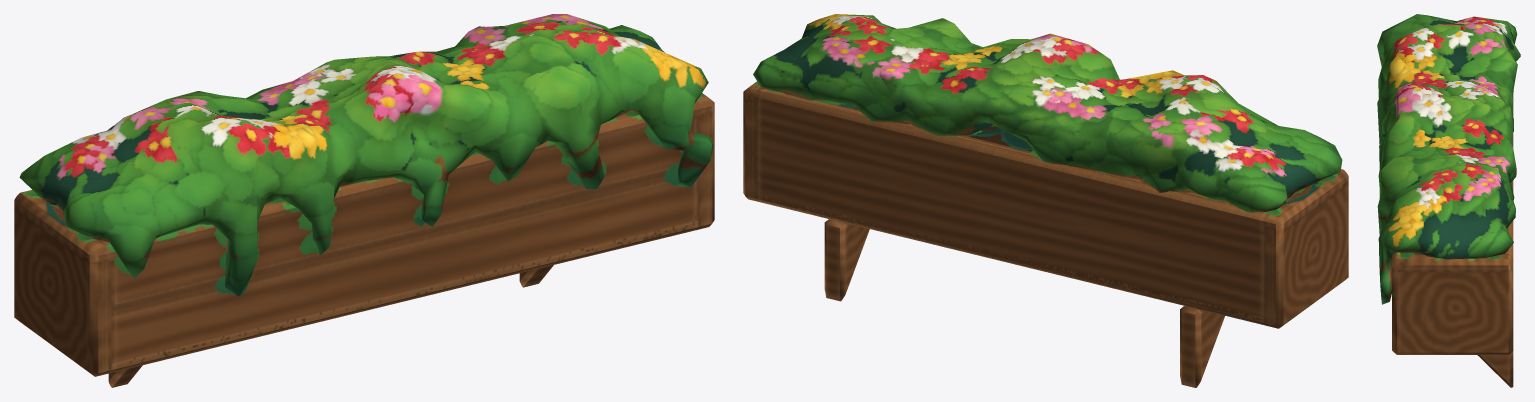
File: window_box.glb
The picture shows the model from 3 angles, left to right: view 1: azimuth 30°, elevation 25°; view 2: azimuth 150°, elevation 25°; view 3: azimuth 270°, elevation 25°; orthographic projection. The views are drawn at different scales.
Visible parts, largest first — view 1: window_box; view 2: window_box; view 3: window_box.
Boxes of the visible parts, x1,y1,x2,y2 form: window_box: (14,14,714,387); window_box: (743,14,1348,387); window_box: (1377,14,1520,387).
Bounding box in the file's own units: 0.9215 × 0.4249 × 0.2444.
1 material, 1 textured.
